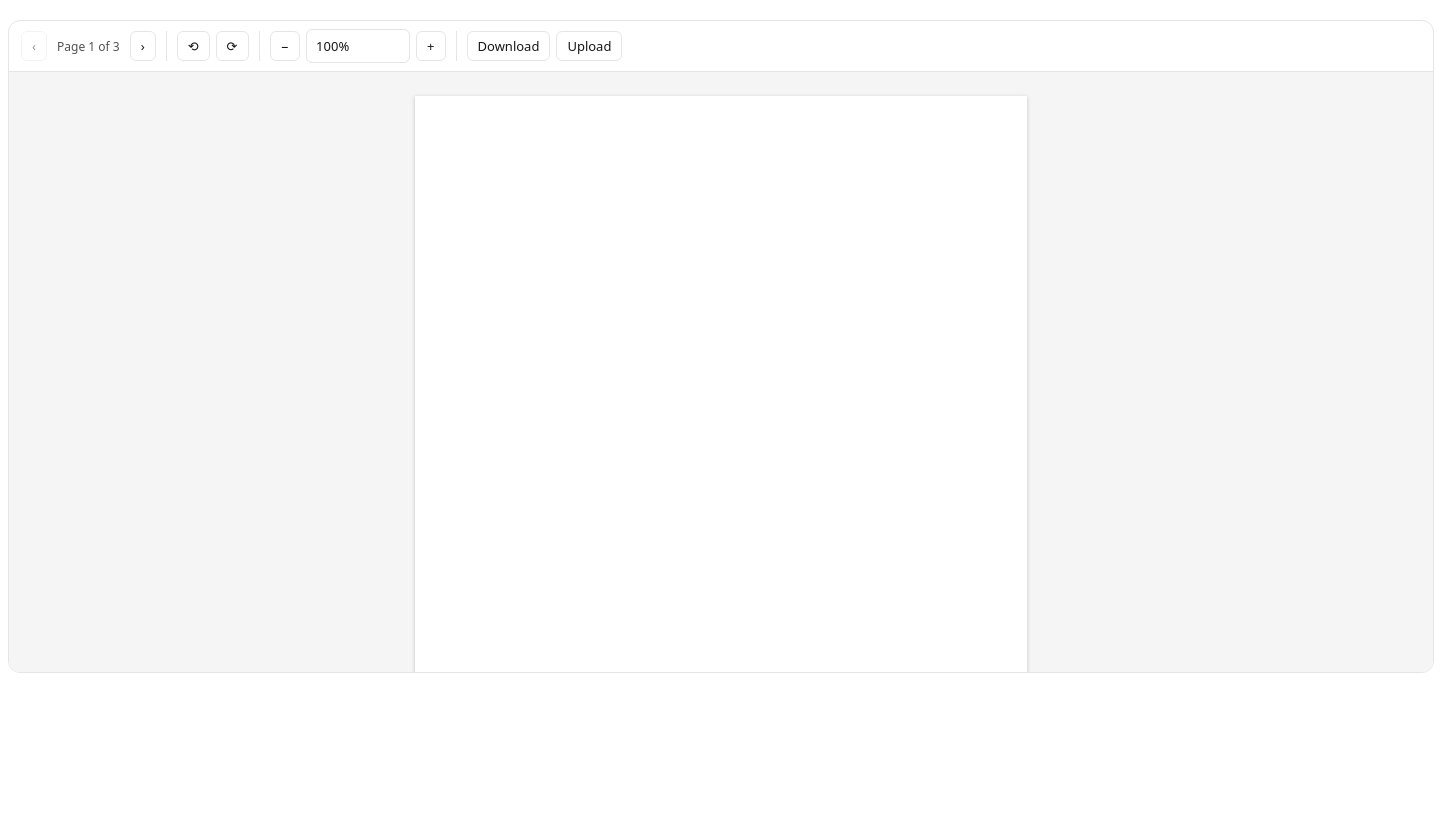
PdfViewer › switches zoom mode from the dropdown
Check: the text "Page 1 of 3" is shown, box [53,38,124,54]
Check: the text with test id "pdf-zoom-label" reads "100%", box [316,37,349,55]
Select "Fit page" in the dropdown named "Zoom level": [358, 46] box [306,29,410,63]
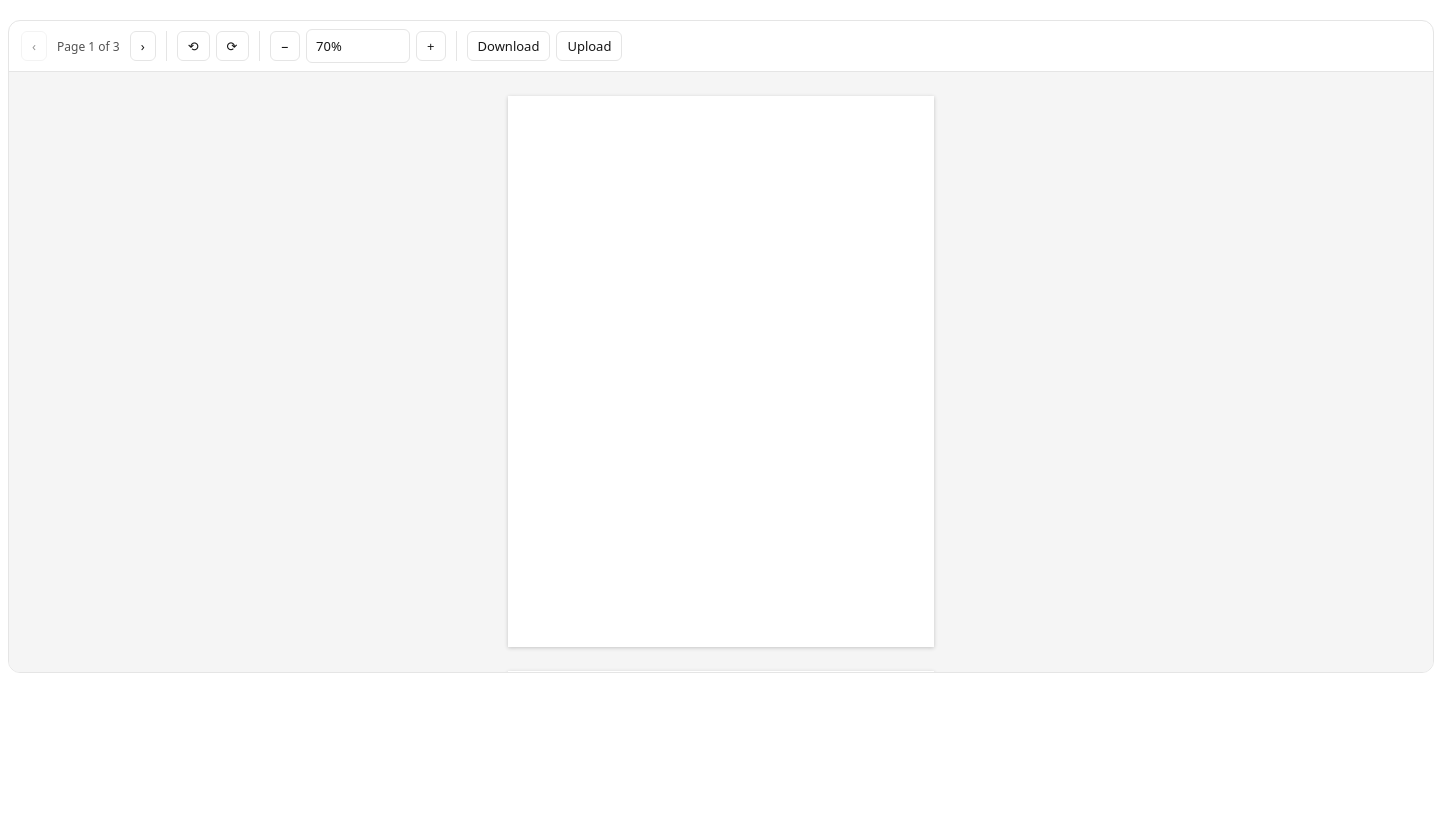
Check: the text with test id "pdf-zoom-label" reads "70%", box [316,37,342,55]
Select "Automatic" in the dropdown named "Zoom level": [358, 46] box [306,29,410,63]
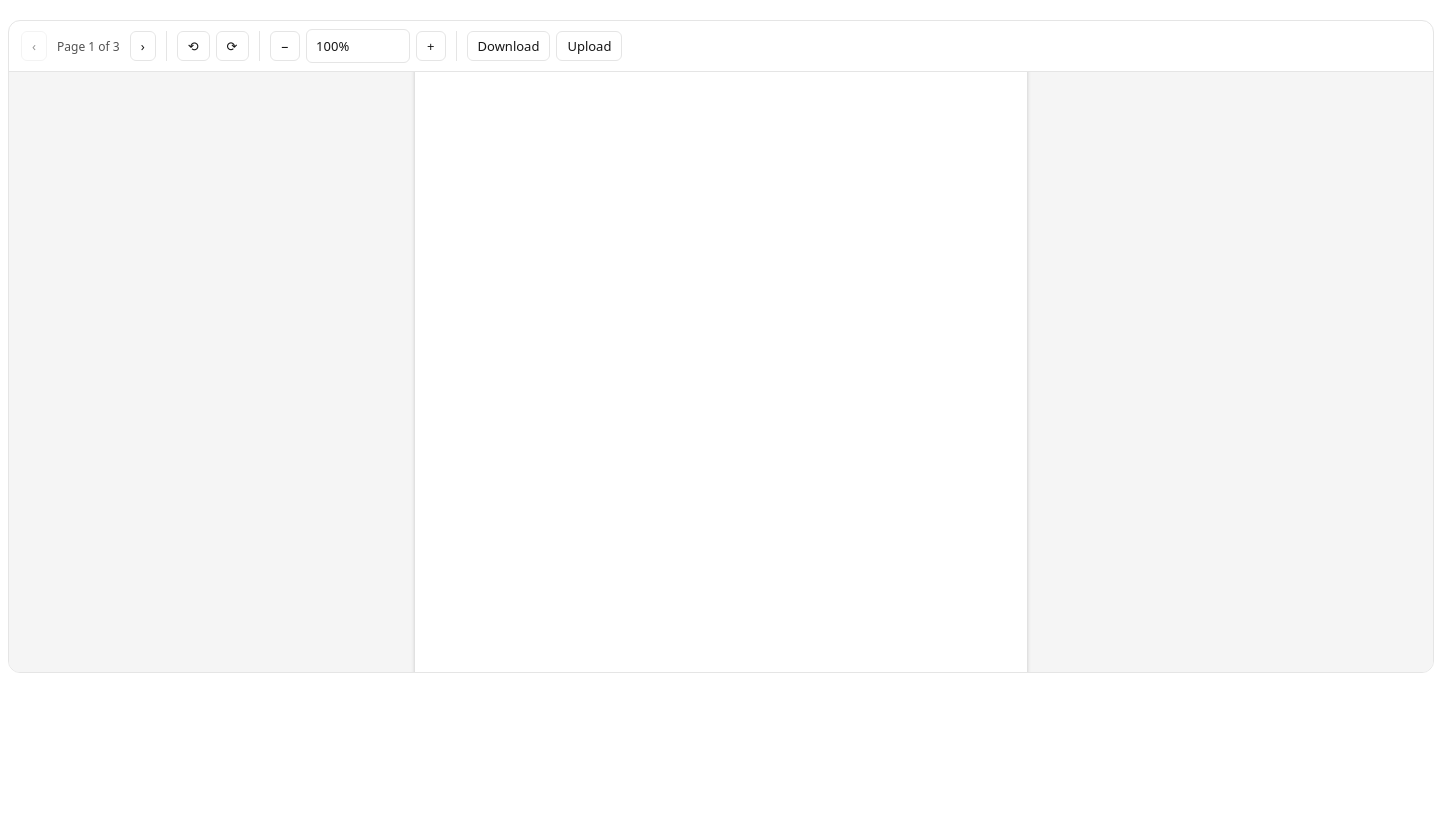
Check: the text with test id "pdf-zoom-label" reads "100%", box [316,37,349,55]
Select "150%" in the dropdown named "Zoom level": [358, 46] box [306,29,410,63]
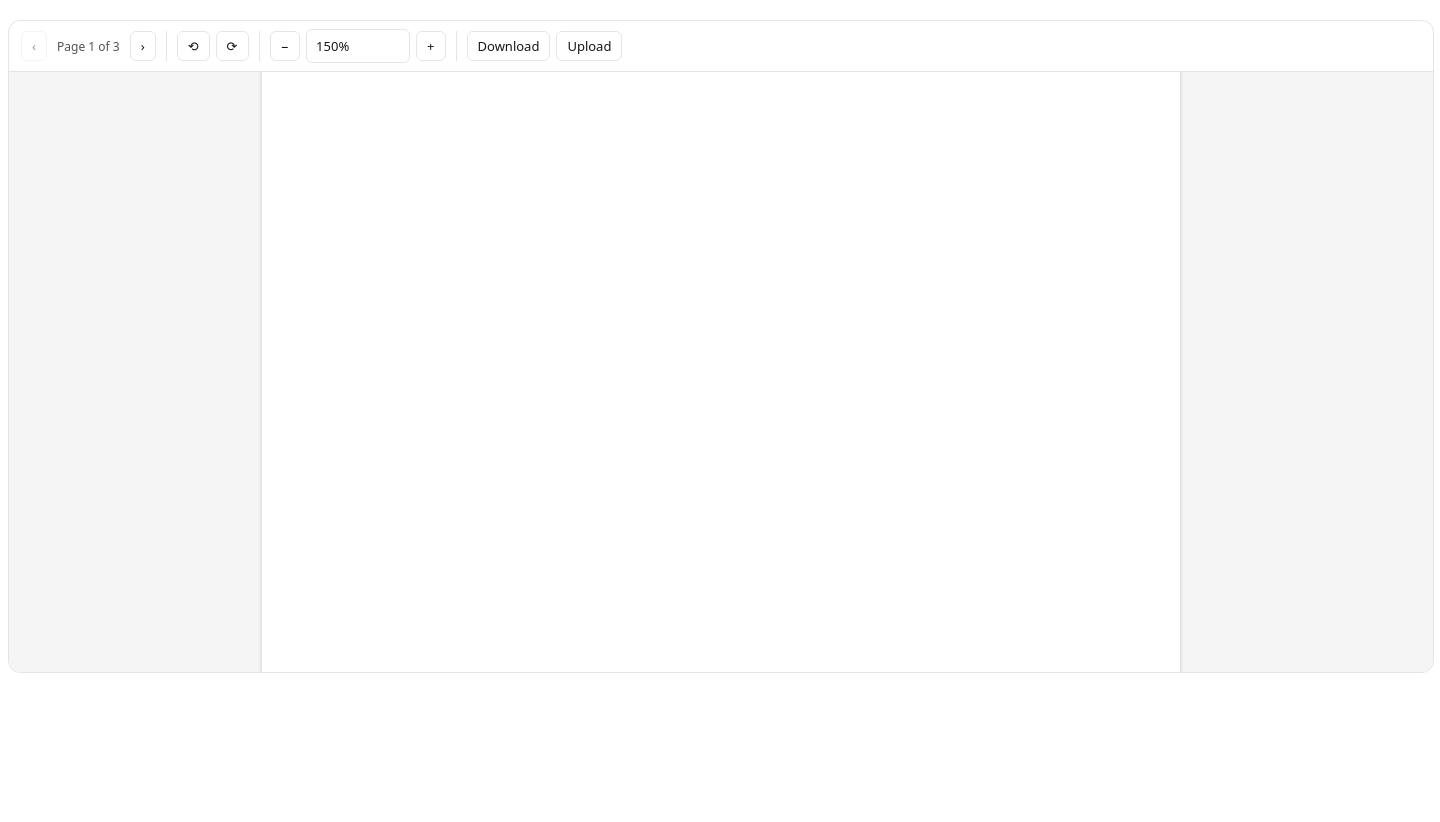
Check: the text with test id "pdf-zoom-label" reads "150%", box [316,37,349,55]
